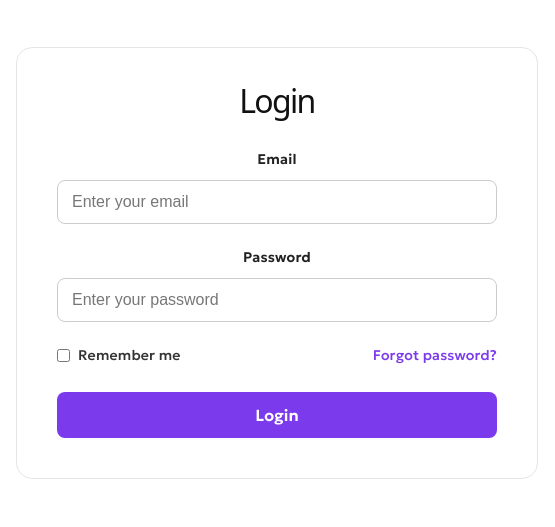
Login › shows lock message on 429 response
The width and height of the screenshot is (555, 527).
Type "test@example.com" into the field labelled "Email" at (277, 202), box [57,180,497,224]
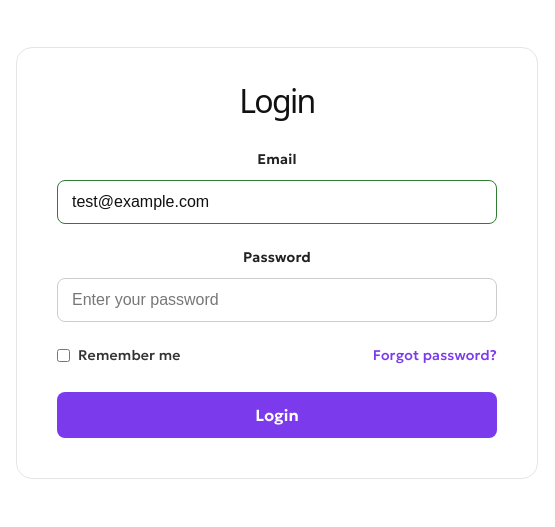
Type "password123" into the password field labelled "Password" at (277, 300), box [57,278,497,322]
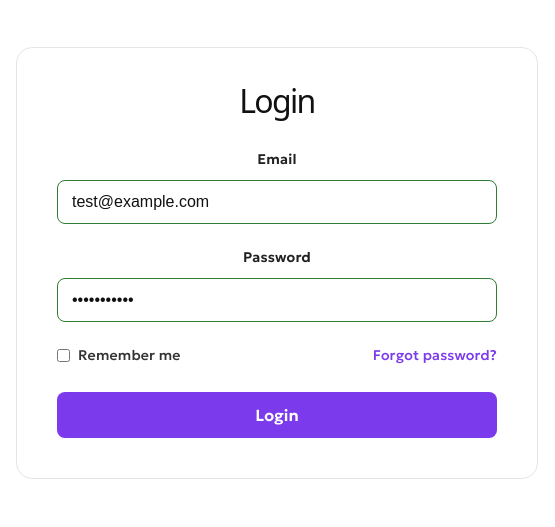
Click the button "Login" at (277, 415), box [57,392,497,438]
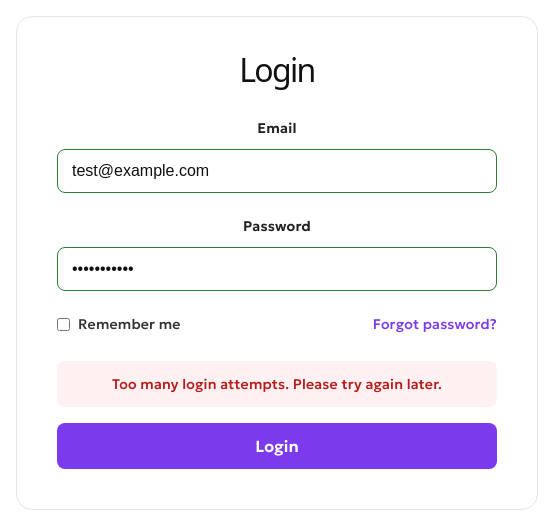
Expected: the text "Too many login attempts. Please try again later." is shown, [57,361,497,407]
